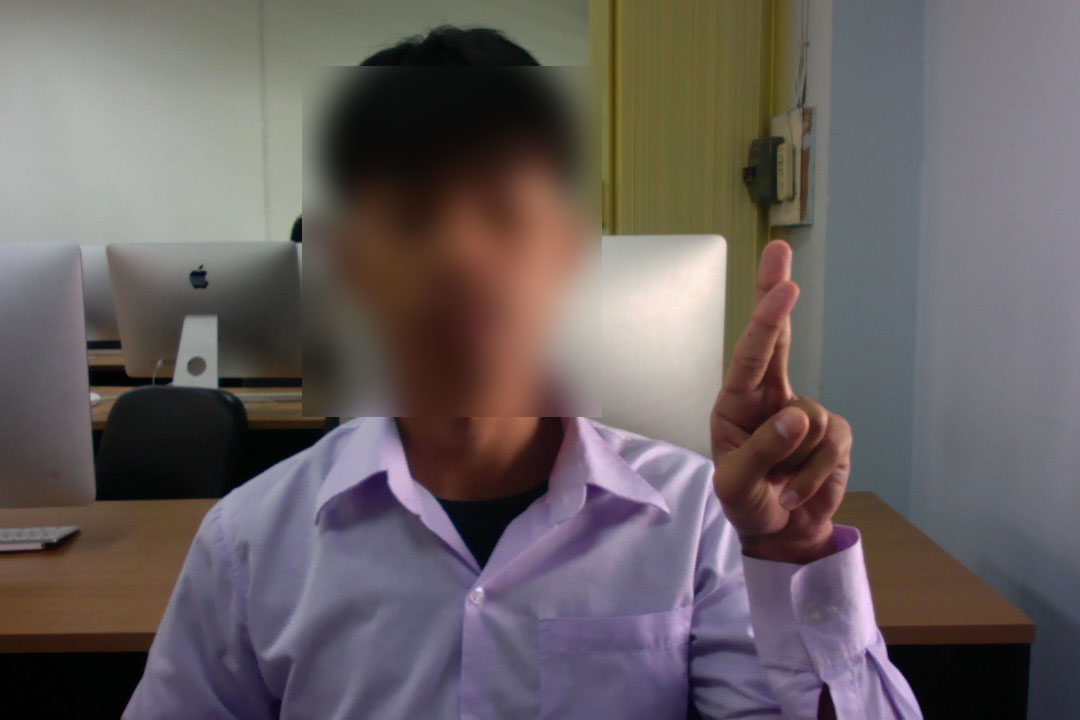rao: (704, 234, 860, 540)
